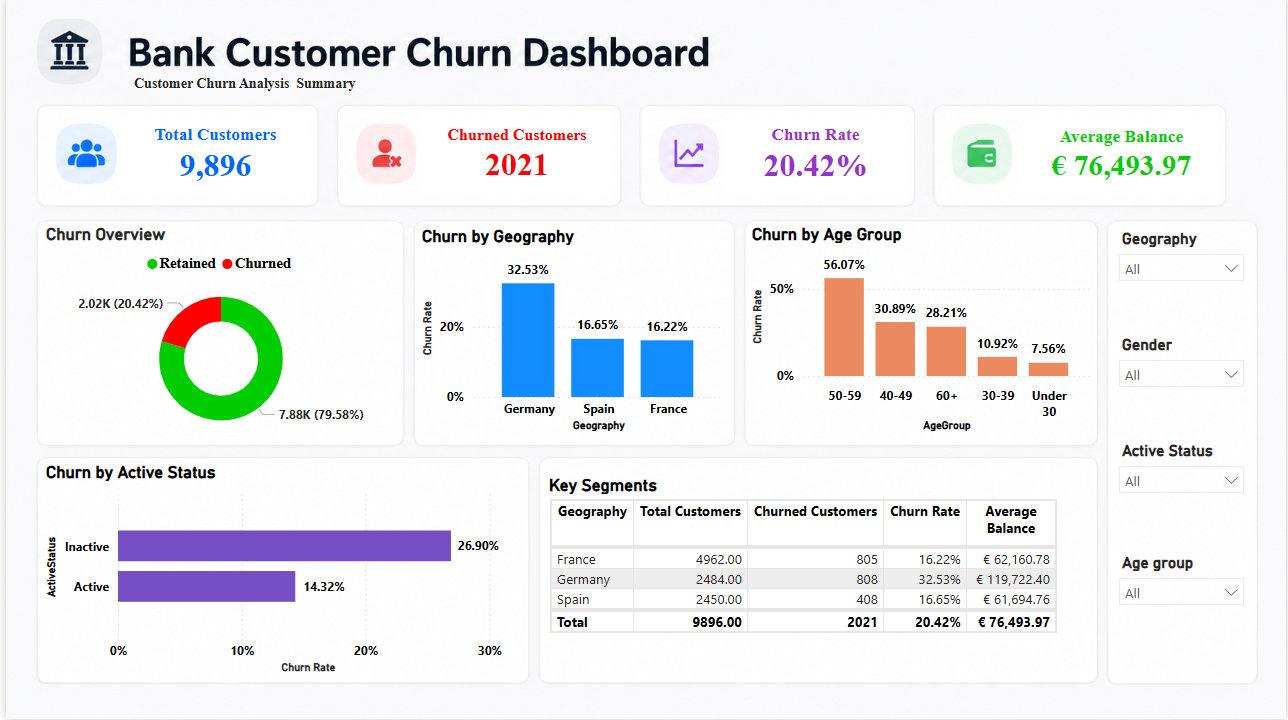

This screenshot's page, from the dashboard's own definition file:
{"tool":"powerbi","page":{"name":"Churn Dasboard","canvas":[1280,720],"ordinal":1},"visuals":[{"type":"cardVisual","fields":{"Data":["bank_churn_project bank_churn_analysis.Total Customers"]},"box":[111,110,197,92],"z":0},{"type":"cardVisual","fields":{"Data":["bank_churn_project bank_churn_analysis.Churned Customers"]},"box":[411,110,200,92],"z":1000},{"type":"cardVisual","fields":{"Data":["bank_churn_project bank_churn_analysis.Churn Rate"]},"box":[713,110,193,92],"z":2000},{"type":"cardVisual","fields":{"Data":["bank_churn_project bank_churn_analysis.Average Balance"]},"box":[1015,110,201,92],"z":3000},{"type":"textbox","box":[123,70,607,29],"z":4000},{"type":"slicer","fields":{"Values":["bank_churn_project bank_churn_analysis.Geography"]},"box":[1103,225,145,77],"z":5000},{"type":"slicer","fields":{"Values":["bank_churn_project bank_churn_analysis.Gender"]},"box":[1103,331,145,77],"z":6000},{"type":"slicer","fields":{"Values":["bank_churn_project bank_churn_analysis.ActiveStatus"]},"box":[1103,437,145,77],"z":7000},{"type":"donutChart","title":"Churn Overview","fields":{"Category":["bank_churn_project bank_churn_analysis.ChurnStatus"],"Y":["bank_churn_project bank_churn_analysis.Total Customers"]},"box":[35,225,360,219],"z":8000},{"type":"clusteredColumnChart","title":"Churn by Geography","fields":{"Category":["bank_churn_project bank_churn_analysis.Geography"],"Y":["bank_churn_project bank_churn_analysis.Churn Rate"]},"box":[411,227,312,210],"z":9000},{"type":"clusteredColumnChart","title":"Churn by Age Group","fields":{"Category":["bank_churn_project bank_churn_analysis.AgeGroup"],"Y":["bank_churn_project bank_churn_analysis.Churn Rate"]},"box":[741,225,348,212],"z":10000},{"type":"slicer","fields":{"Values":["bank_churn_project bank_churn_analysis.AgeGroup"]},"box":[1103,549,145,77],"z":11000},{"type":"clusteredBarChart","title":"Churn by Active Status","fields":{"Category":["bank_churn_project bank_churn_analysis.ActiveStatus"],"Y":["bank_churn_project bank_churn_analysis.Churn Rate"]},"box":[35,463,476,216],"z":12000},{"type":"tableEx","title":"Key Segments ","fields":{"Values":["bank_churn_project bank_churn_analysis.Geography","bank_churn_project bank_churn_analysis.Total Customers","bank_churn_project bank_churn_analysis.Churned Customers","bank_churn_project bank_churn_analysis.Churn Rate","bank_churn_project bank_churn_analysis.Average Balance"]},"box":[538,476,528,189],"z":13000}]}

Visuals, with their boxes in screenshot pixels (x1, y1, x2, y2), scaled from the page's 1280x720 canvas onto the 1288x720 screenshot:
cardVisual - bank_churn_project bank_churn_analysis.Total Customers: box(112, 110, 310, 202)
cardVisual - bank_churn_project bank_churn_analysis.Churned Customers: box(414, 110, 615, 202)
cardVisual - bank_churn_project bank_churn_analysis.Churn Rate: box(717, 110, 912, 202)
cardVisual - bank_churn_project bank_churn_analysis.Average Balance: box(1021, 110, 1224, 202)
textbox: box(124, 70, 735, 99)
slicer - bank_churn_project bank_churn_analysis.Geography: box(1110, 225, 1256, 302)
slicer - bank_churn_project bank_churn_analysis.Gender: box(1110, 331, 1256, 408)
slicer - bank_churn_project bank_churn_analysis.ActiveStatus: box(1110, 437, 1256, 514)
"Churn Overview" donutChart: box(35, 225, 397, 444)
"Churn by Geography" clusteredColumnChart: box(414, 227, 728, 437)
"Churn by Age Group" clusteredColumnChart: box(746, 225, 1096, 437)
slicer - bank_churn_project bank_churn_analysis.AgeGroup: box(1110, 549, 1256, 626)
"Churn by Active Status" clusteredBarChart: box(35, 463, 514, 679)
"Key Segments " tableEx: box(541, 476, 1073, 665)
